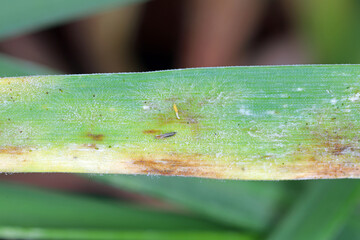Thrips: (148, 132, 181, 141), (171, 100, 182, 122)
